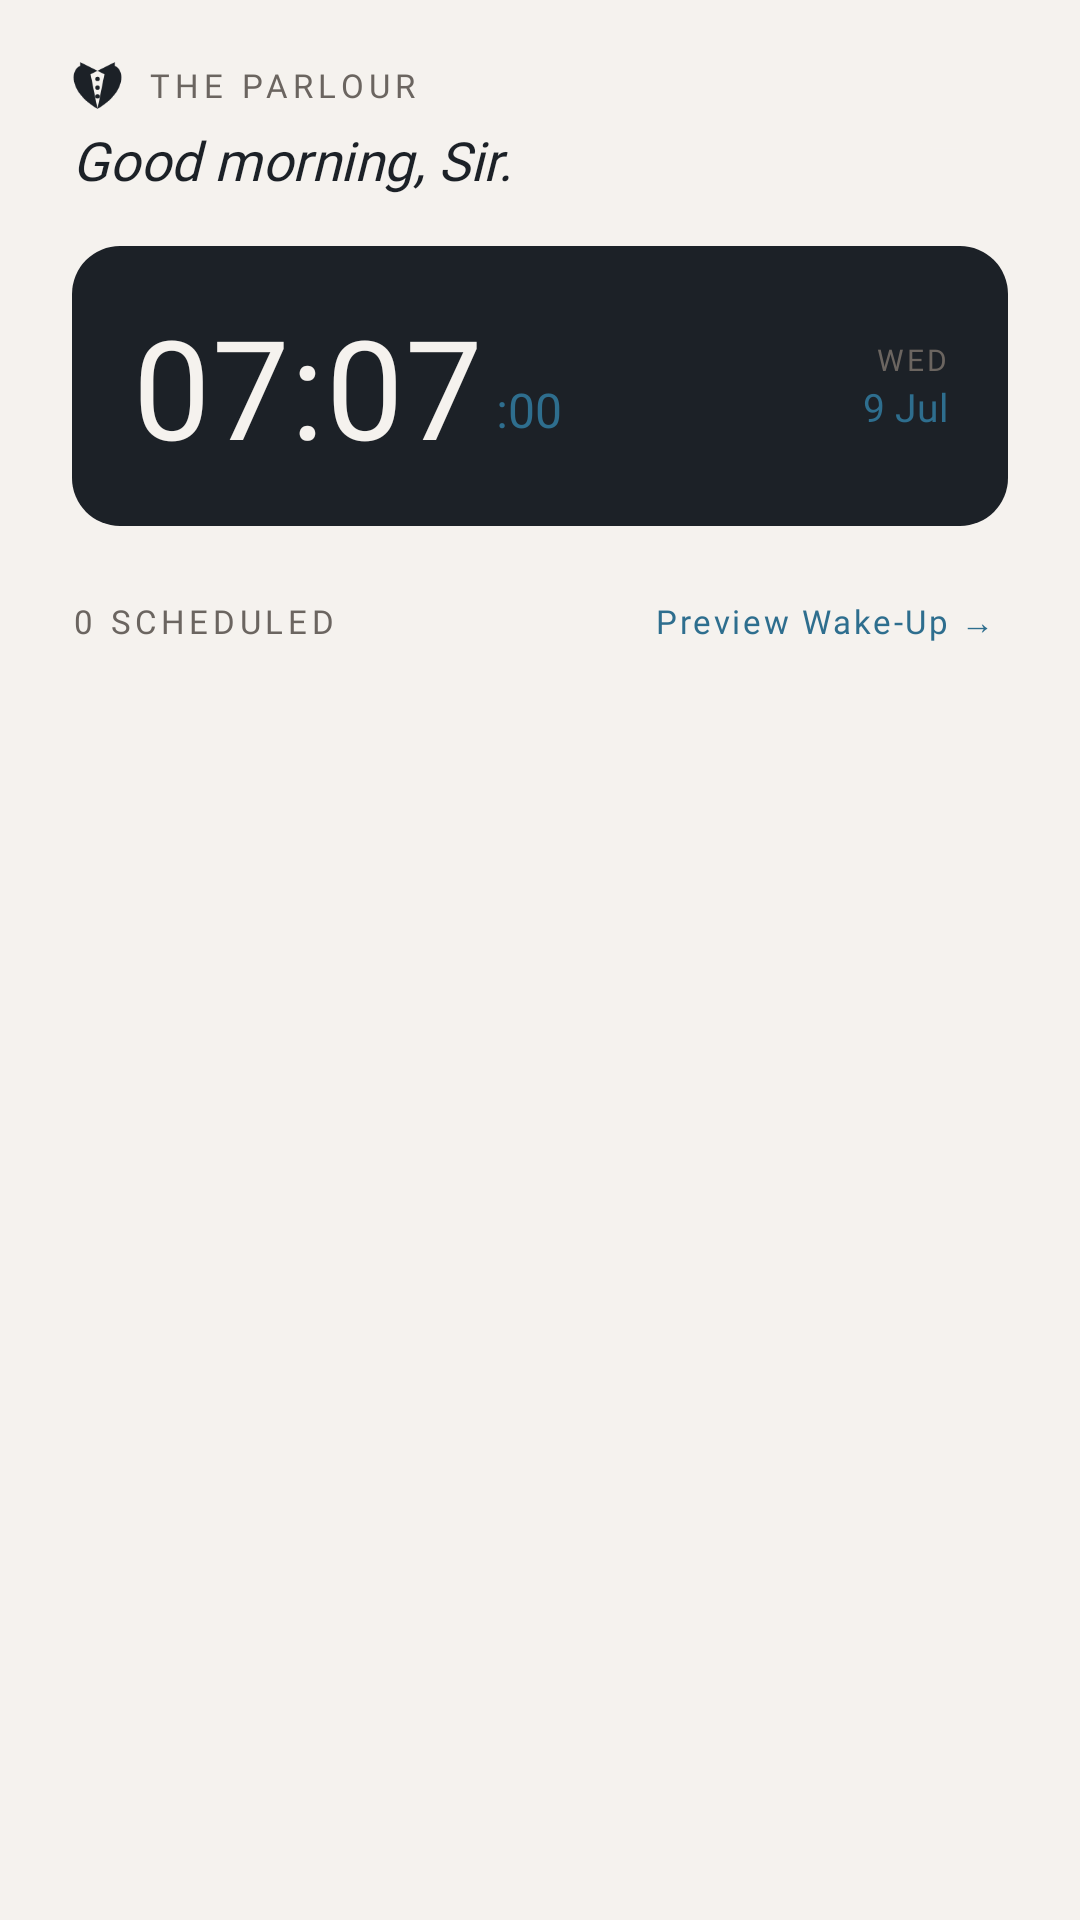

Locate icon controls on the screen. Image size 1080*1920, boxes as (x1, y1, x2, y2).
tuxedo: (73, 62, 122, 109)
